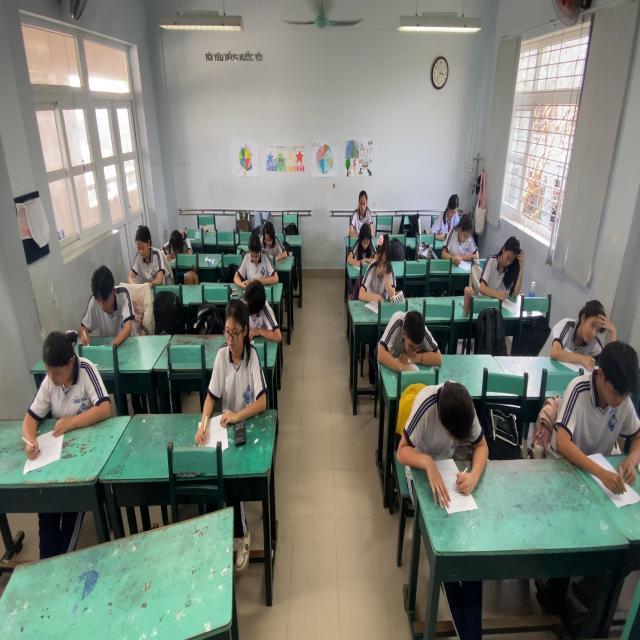not_cheating: (27, 330, 112, 433), (571, 337, 640, 457), (209, 298, 260, 413), (410, 381, 483, 461), (81, 260, 136, 350), (376, 302, 441, 376), (548, 302, 612, 355), (240, 274, 284, 350), (484, 233, 526, 295), (128, 220, 163, 288), (238, 226, 272, 288), (153, 219, 194, 261), (255, 216, 288, 261), (371, 233, 396, 291), (349, 216, 376, 261), (435, 188, 462, 233), (349, 188, 373, 233), (450, 216, 476, 254)
